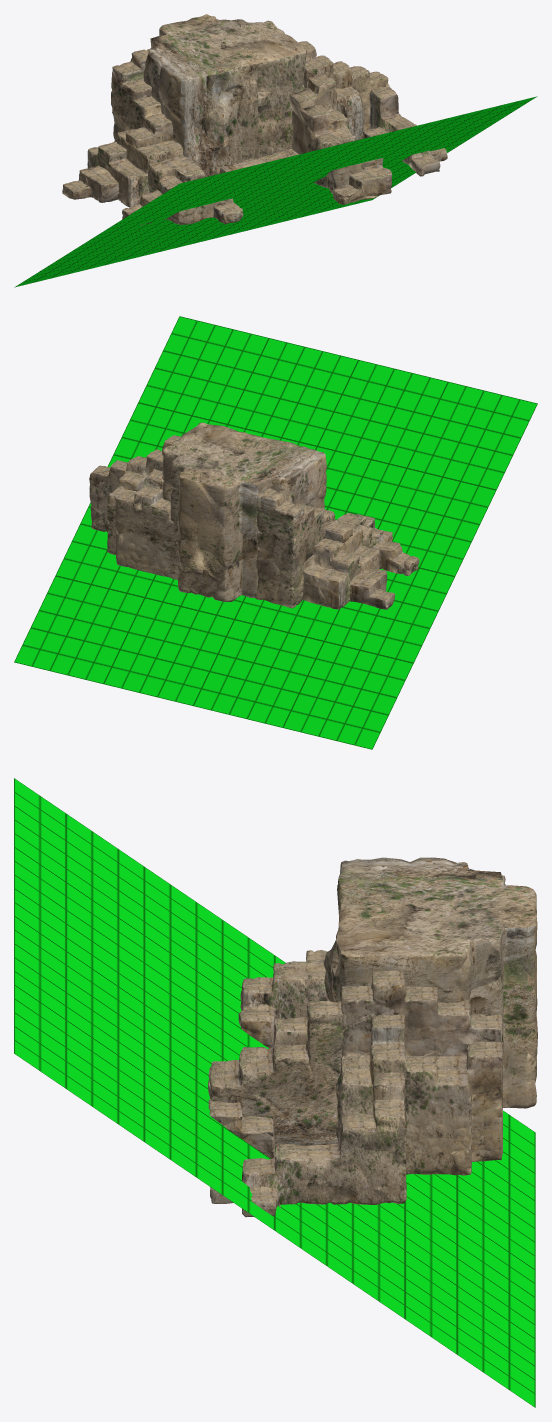
The model's file is Cliff.fbx.
3 renders of one model, top to bottom at view 1: azimuth 30°, elevation 25°; view 2: azimuth 150°, elevation 25°; view 3: azimuth 270°, elevation 25°, orthographic. The views are drawn at different scales.
Visible parts, largest first — view 1: Ground_Guide.001, Cliff, Cliff.005, Cliff.001, Cliff.007, Cliff.003, Cliff.006, Cliff.004, Cliff.002, Cliff.006.StepTop.007, Cliff.008, Cliff.005.StepTop.002 (+4 smaller); view 2: Ground_Guide.001, Cliff, Cliff.007, Cliff.004, Cliff.005, Cliff.003, Cliff.006; view 3: Ground_Guide.001, Cliff, Cliff.004, Cliff.003, Cliff.001, Cliff.006, Cliff.006.StepTop.007, Cliff.002, Cliff.003.StepTop.004, Cliff.004.StepTop.012, Cliff.001.StepTop.002, Cliff.004.StepTop.008 (+1 smaller).
Part boxes in pixels (x1=…): Ground_Guide.001: x1=14, y1=96, x2=537, y2=287; Cliff: x1=143, y1=14, x2=307, y2=177; Cliff.005: x1=62, y1=133, x2=183, y2=207; Cliff.001: x1=289, y1=79, x2=361, y2=193; Cliff.007: x1=111, y1=52, x2=172, y2=148; Cliff.003: x1=351, y1=71, x2=447, y2=176; Cliff.006: x1=122, y1=165, x2=243, y2=225; Cliff.004: x1=274, y1=43, x2=364, y2=152; Cliff.002: x1=333, y1=158, x2=392, y2=204; Cliff.006.StepTop.007: x1=149, y1=156, x2=202, y2=174; Cliff.008: x1=219, y1=149, x2=298, y2=173; Cliff.005.StepTop.002: x1=109, y1=158, x2=146, y2=178; Ground_Guide.001: x1=14, y1=316, x2=537, y2=749; Cliff: x1=162, y1=422, x2=326, y2=601; Cliff.007: x1=256, y1=493, x2=352, y2=608; Cliff.004: x1=107, y1=442, x2=179, y2=579; Cliff.005: x1=302, y1=528, x2=395, y2=609; Cliff.003: x1=89, y1=461, x2=125, y2=531; Cliff.006: x1=358, y1=516, x2=419, y2=575; Ground_Guide.001: x1=14, y1=778, x2=535, y2=1407; Cliff: x1=323, y1=857, x2=537, y2=1108; Cliff.004: x1=335, y1=972, x2=502, y2=1175; Cliff.003: x1=210, y1=1075, x2=407, y2=1217; Cliff.001: x1=208, y1=1006, x2=343, y2=1147; Cliff.006: x1=238, y1=954, x2=329, y2=1048; Cliff.006.StepTop.007: x1=274, y1=950, x2=327, y2=979; Cliff.002: x1=211, y1=1116, x2=275, y2=1158; Cliff.003.StepTop.004: x1=275, y1=1144, x2=339, y2=1160; Cliff.004.StepTop.012: x1=417, y1=1056, x2=467, y2=1084; Cliff.001.StepTop.002: x1=239, y1=1047, x2=273, y2=1072; Cliff.004.StepTop.008: x1=342, y1=1055, x2=371, y2=1086.
Bounding box in the file's own units: 2000 × 1212 × 1608.
